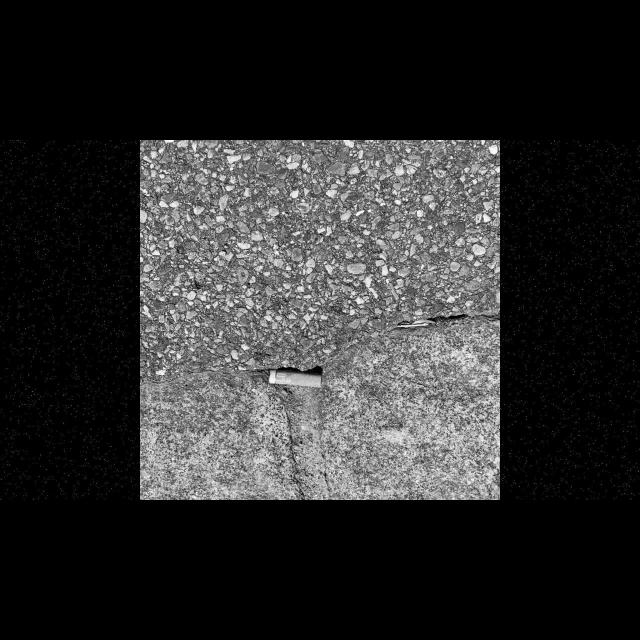cigarette: (268, 368, 322, 388)
